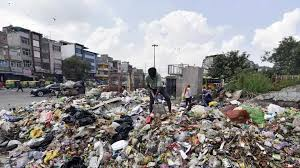garbage: (2, 108, 300, 167), (202, 96, 293, 168), (63, 97, 148, 168)
